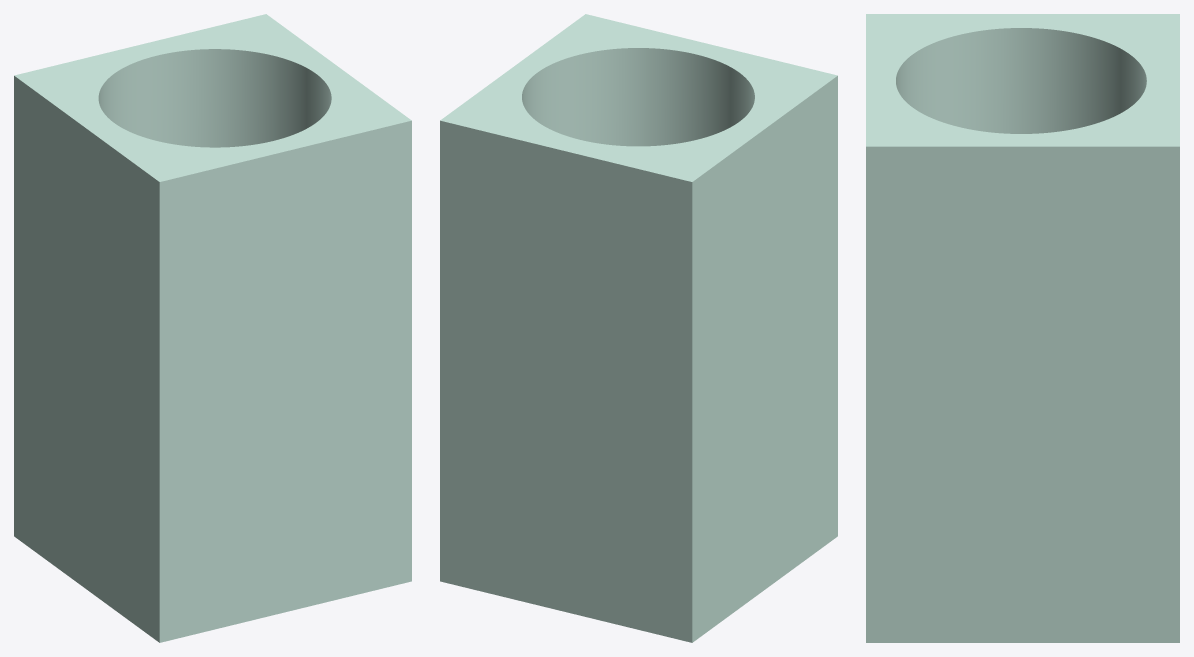
3 renders of one model, left to right at view 1: azimuth 30°, elevation 25°; view 2: azimuth 150°, elevation 25°; view 3: azimuth 270°, elevation 25°, orthographic. The views are drawn at different scales.
Visible parts, largest first — view 1: Renderer Node; view 2: Renderer Node; view 3: Renderer Node.
Boxes of the visible parts, x1,y1,x2,y2 form: Renderer Node: (14,14,411,642); Renderer Node: (440,14,837,642); Renderer Node: (866,14,1179,642).
Bounding box in the file's own units: 0.4297 × 0.75 × 0.4297.
